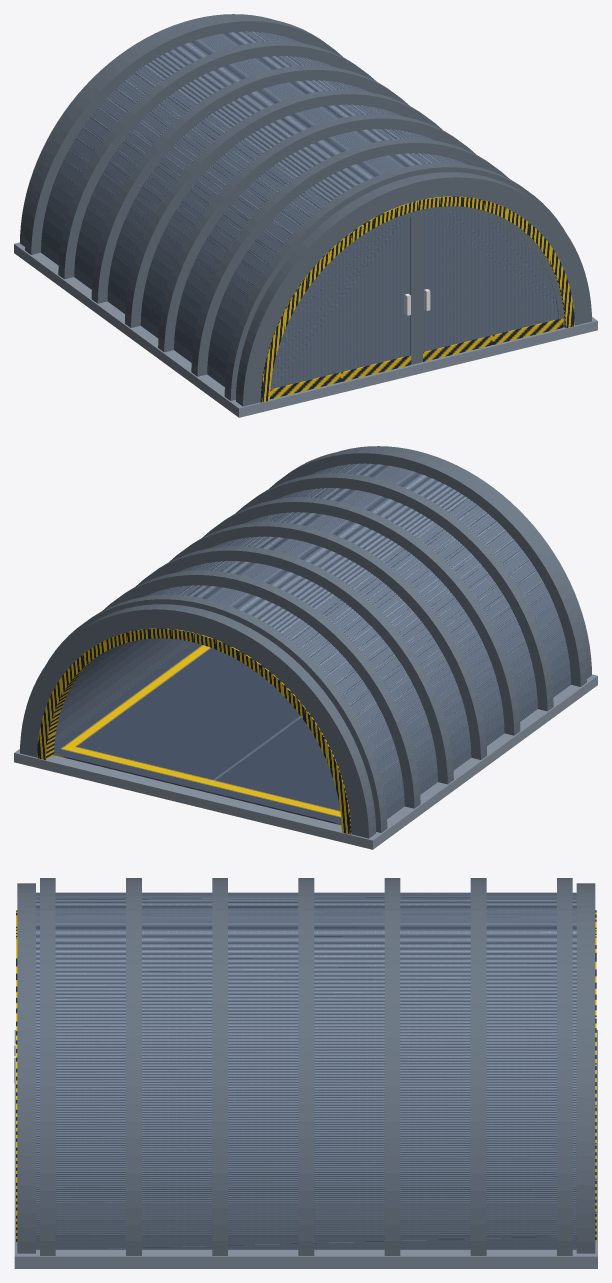
File: hangar_arch_tunnel.glb
The picture shows the model from 3 angles, top to bottom: view 1: azimuth 30°, elevation 25°; view 2: azimuth 150°, elevation 25°; view 3: azimuth 270°, elevation 25°; orthographic projection. The views are drawn at different scales.
Parts seen in each view (by area): view 1: hangar_arch_tunnel, hangar_gate_right_pivot, hangar_gate_left_pivot; view 2: hangar_arch_tunnel; view 3: hangar_arch_tunnel.
Boxes of the visible parts, x1,y1,x2,y2 form: hangar_arch_tunnel: (14,14,597,417); hangar_gate_right_pivot: (417,206,564,363); hangar_gate_left_pivot: (270,211,416,399); hangar_arch_tunnel: (14,446,597,849); hangar_arch_tunnel: (14,878,597,1268).
Size of the model in its own units: 8.1 by 4.2 by 8.81.
Materials: 7 (4 with a texture image).
